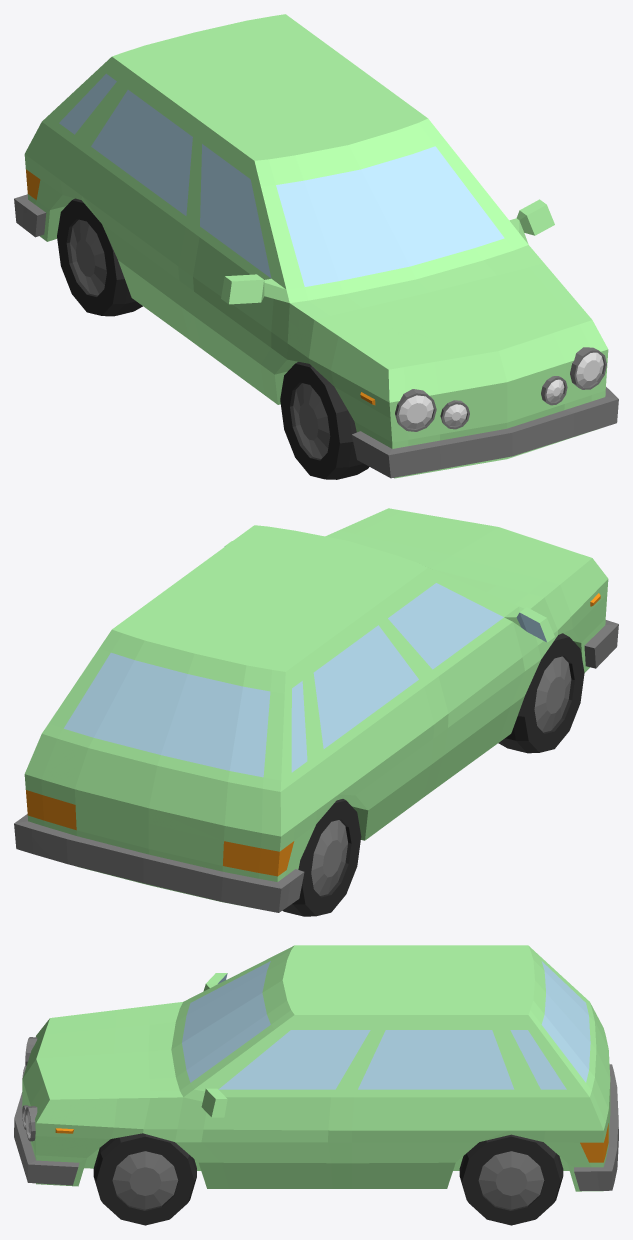
The model's file is car_green_light.glb.
3 views of the same model, one above another, from view 1: azimuth 30°, elevation 25°; view 2: azimuth 150°, elevation 25°; view 3: azimuth 270°, elevation 25° (orthographic). The views are drawn at different scales.
Parts seen in each view (by area): view 1: 1377 Car; view 2: 1377 Car; view 3: 1377 Car.
Part boxes in pixels (x1=…): 1377 Car: x1=14, y1=14, x2=618, y2=479; 1377 Car: x1=14, y1=508, x2=618, y2=916; 1377 Car: x1=14, y1=945, x2=618, y2=1225.
Size of the model in its own units: 45.5 by 32.33 by 89.11.
Materials: 1 (1 with a texture image).
